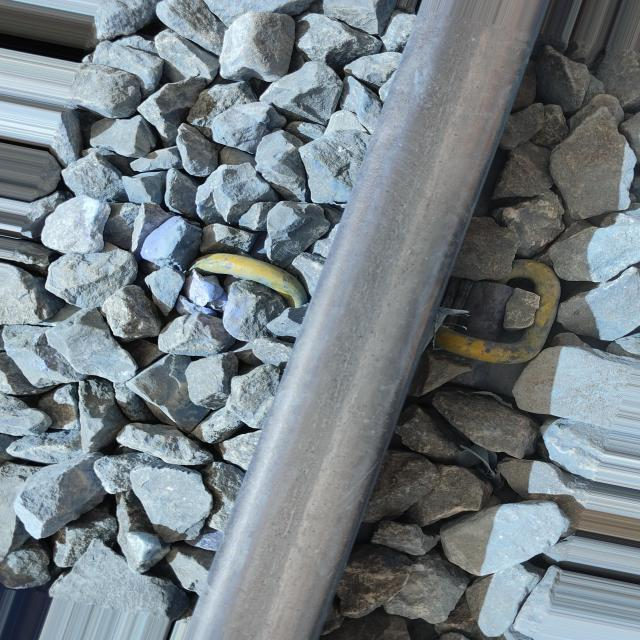Good Fasteners: (435, 260, 560, 364), (190, 224, 307, 308)
